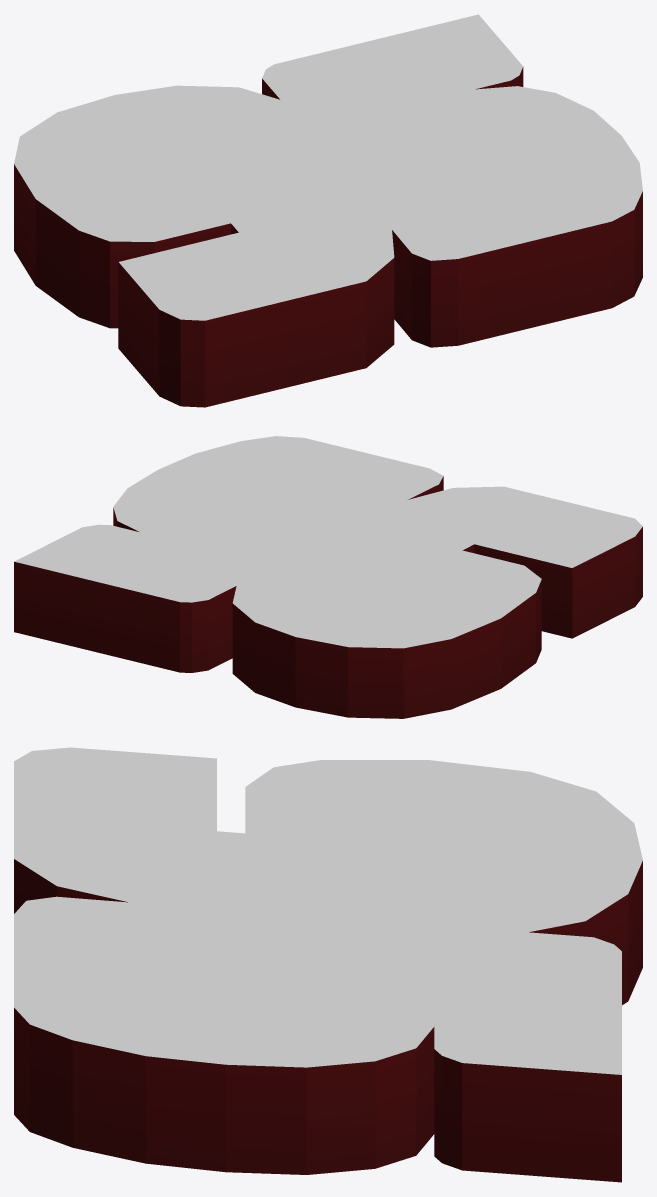
The model's file is LightningMcQueen95.fbx.
The picture shows the model from 3 angles, top to bottom: view 1: azimuth 30°, elevation 25°; view 2: azimuth 150°, elevation 25°; view 3: azimuth 270°, elevation 25°; orthographic projection. The views are drawn at different scales.
Visible parts, largest first — view 1: LightningMcQueen95; view 2: LightningMcQueen95; view 3: LightningMcQueen95.
Boxes of the visible parts, x1,y1,x2,y2 form: LightningMcQueen95: (14,14,642,407); LightningMcQueen95: (14,436,642,718); LightningMcQueen95: (14,747,642,1182).
Bounding box in the file's own units: 128 × 19.62 × 104.
